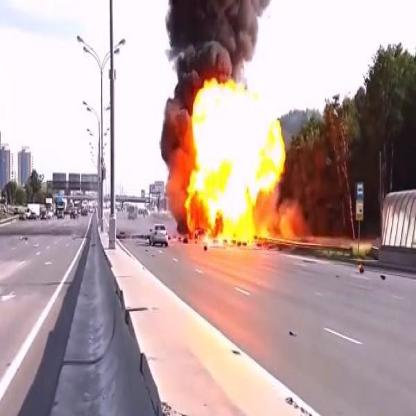fire: (176, 72, 294, 251)
